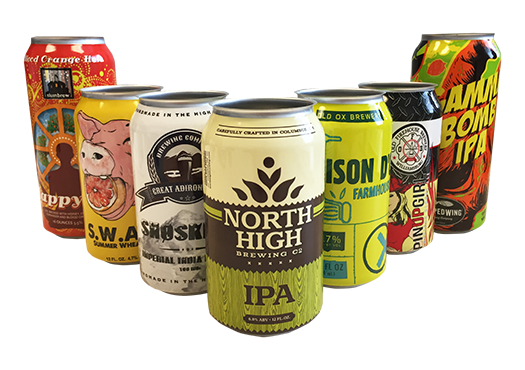beer can: (202, 99, 327, 340), (130, 94, 230, 297), (22, 37, 118, 245), (409, 30, 503, 234), (295, 86, 391, 281), (74, 87, 162, 266), (356, 82, 436, 259)
